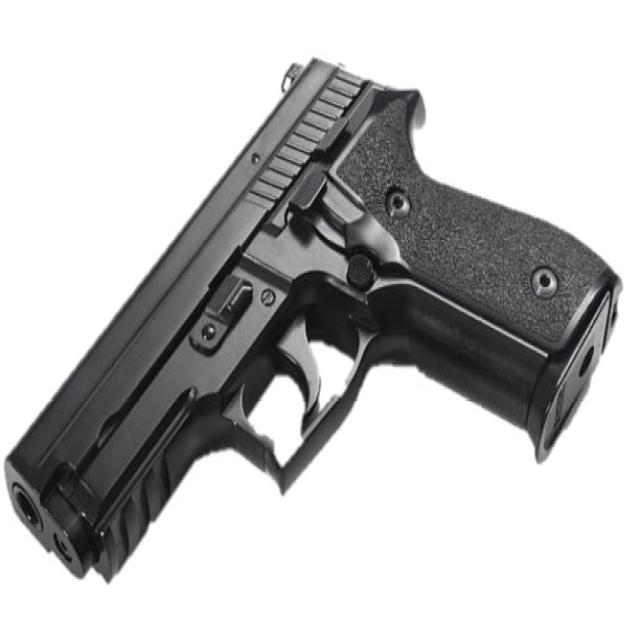pistol: (6, 34, 635, 604)
